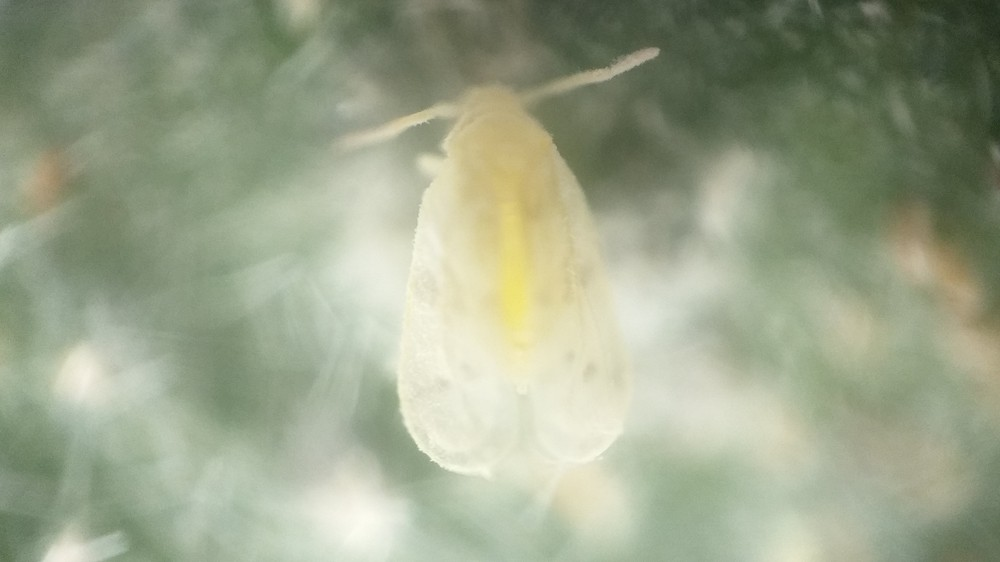Mosca Blanca: (317, 47, 706, 485)
